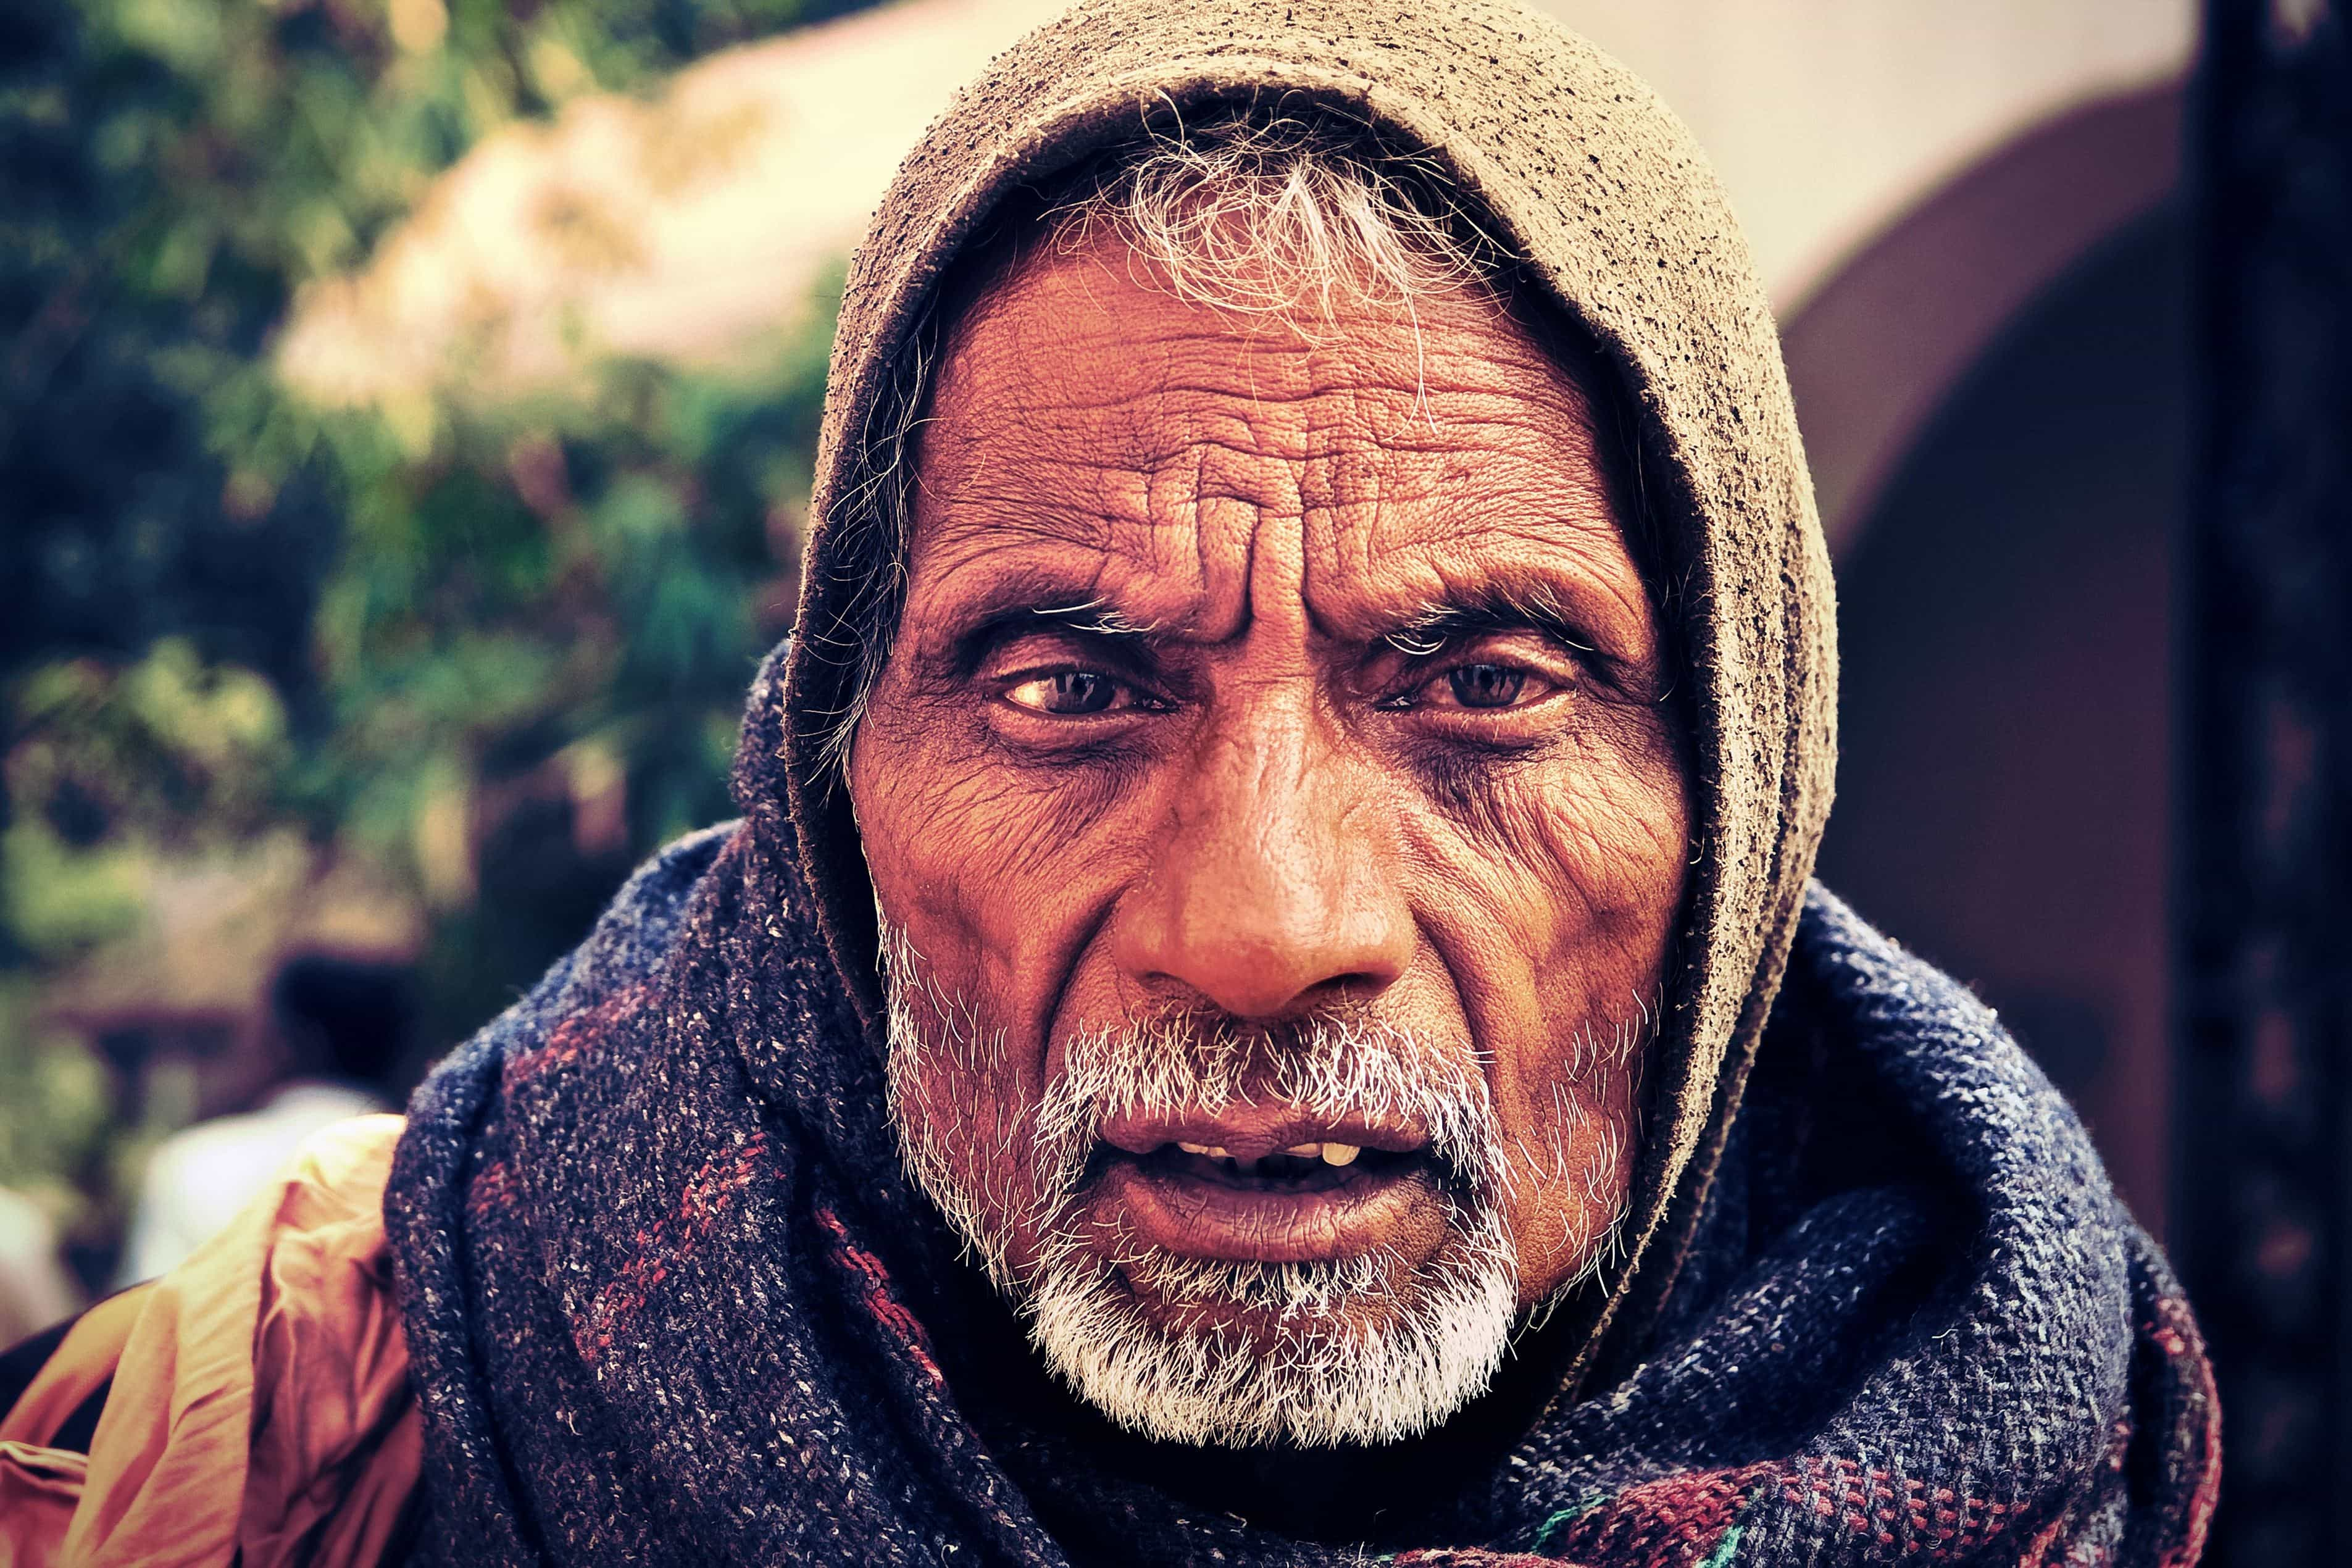without_mask: (846, 183, 1701, 1453)
